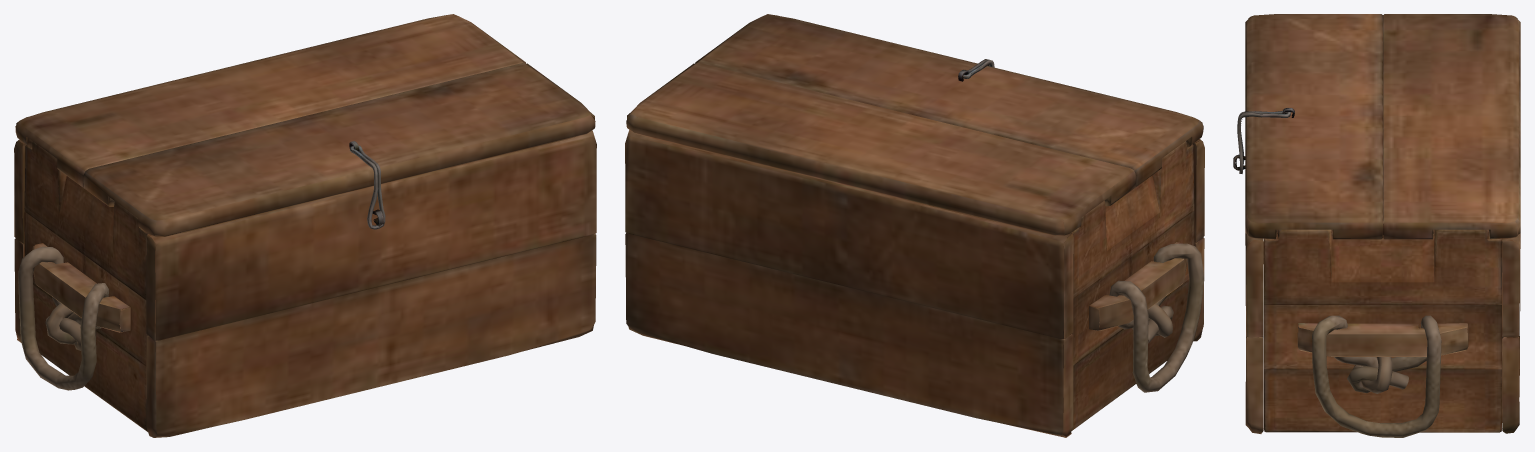
File: crate_wood.glb
3 renders of one model, left to right at view 1: azimuth 30°, elevation 25°; view 2: azimuth 150°, elevation 25°; view 3: azimuth 270°, elevation 25°, orthographic. The views are drawn at different scales.
Visible parts, largest first — view 1: crate_wood; view 2: crate_wood; view 3: crate_wood.
Part boxes in pixels (x1=…): crate_wood: x1=14, y1=14, x2=596, y2=437; crate_wood: x1=625, y1=14, x2=1204, y2=437; crate_wood: x1=1233, y1=14, x2=1520, y2=437.
Bounding box in the file's own units: 0.8247 × 0.3487 × 0.4086.
Materials: 1 (1 with a texture image).
